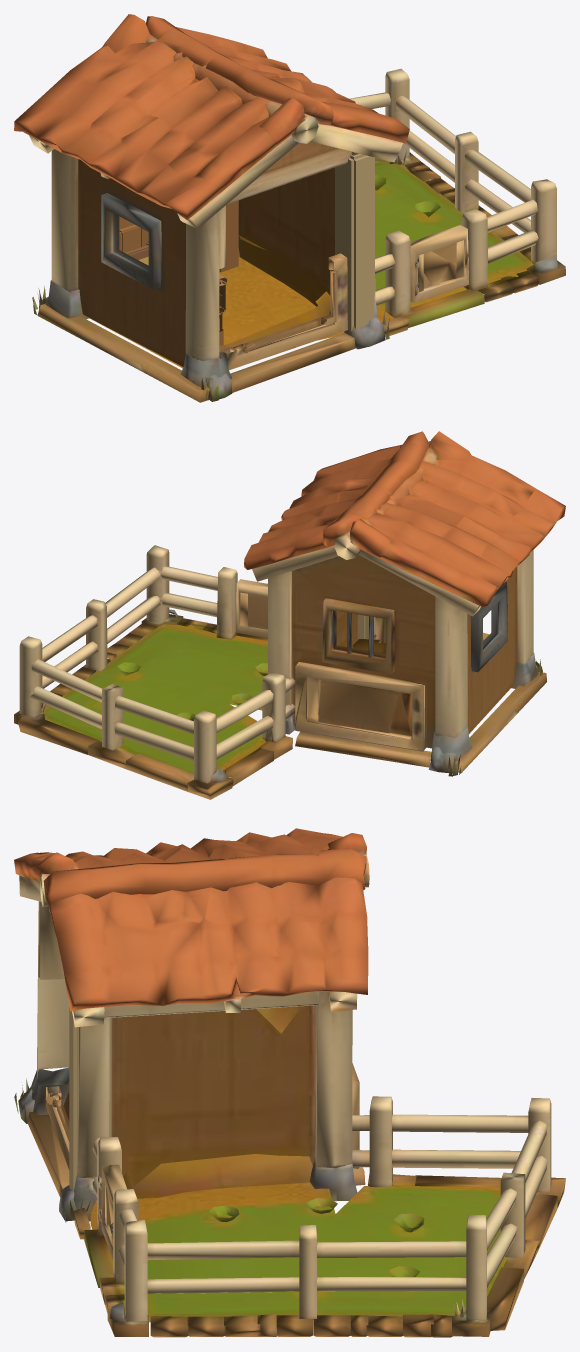
3 views of the same model, one above another, from view 1: azimuth 30°, elevation 25°; view 2: azimuth 150°, elevation 25°; view 3: azimuth 270°, elevation 25° (orthographic). The views are drawn at different scales.
Visible parts, largest first — view 1: tripo_node_1ab5f93f-4f39-4ac6-bcbe-408c19fe9d91, 외형 세부; view 2: tripo_node_1ab5f93f-4f39-4ac6-bcbe-408c19fe9d91; view 3: tripo_node_1ab5f93f-4f39-4ac6-bcbe-408c19fe9d91, 외형 세부.
Boxes of the visible parts, left/top/right/bottom form: tripo_node_1ab5f93f-4f39-4ac6-bcbe-408c19fe9d91: left=14, top=14, right=565, bottom=402; 외형 세부: left=119, top=154, right=374, bottom=352; tripo_node_1ab5f93f-4f39-4ac6-bcbe-408c19fe9d91: left=14, top=431, right=565, bottom=799; tripo_node_1ab5f93f-4f39-4ac6-bcbe-408c19fe9d91: left=14, top=828, right=565, bottom=1337; 외형 세부: left=45, top=1007, right=111, bottom=1202.
Size of the model in its own units: 8 by 4.44 by 7.01.
Materials: 2 (1 with a texture image).
